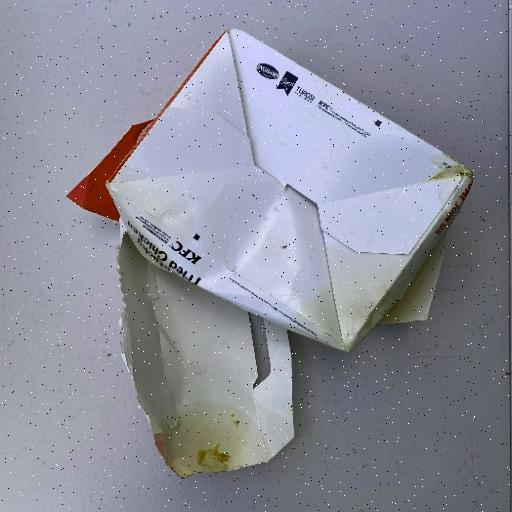Cardboard: (64, 26, 476, 478)
